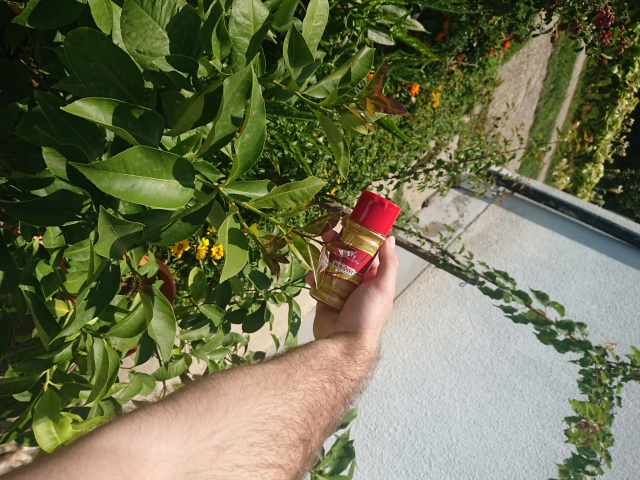Kotanyi Curry Spices Mix 70g: (308, 188, 404, 313)
